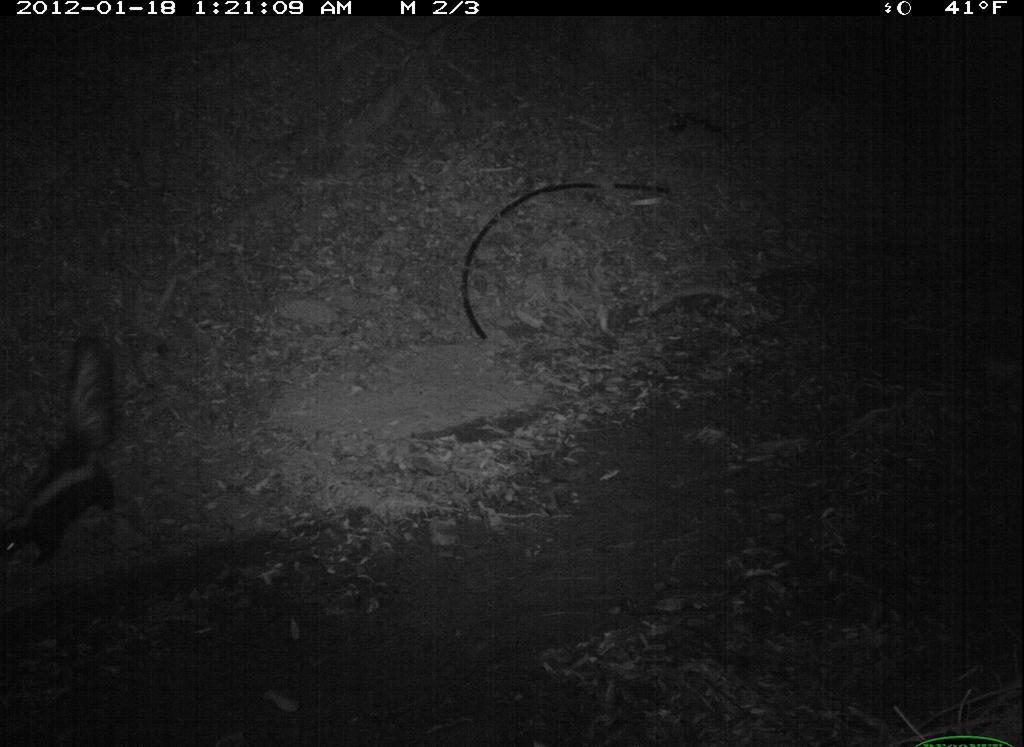skunk: (4, 324, 130, 575)
